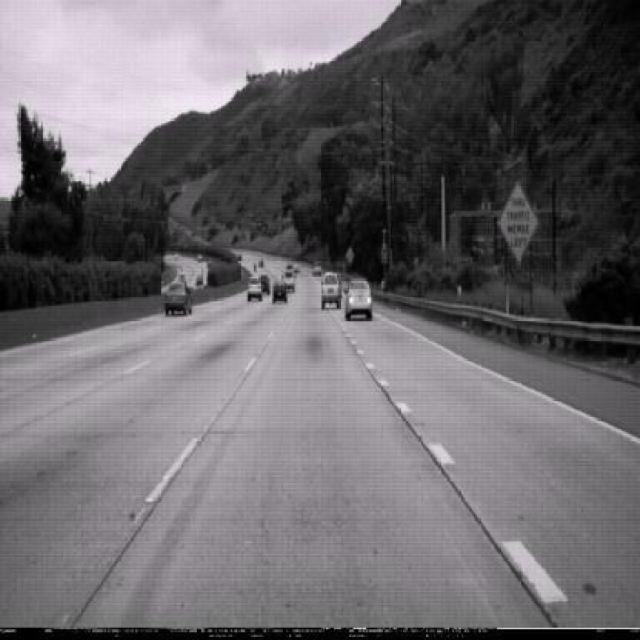thruTrafficMergeLeft: (497, 178, 540, 265)
